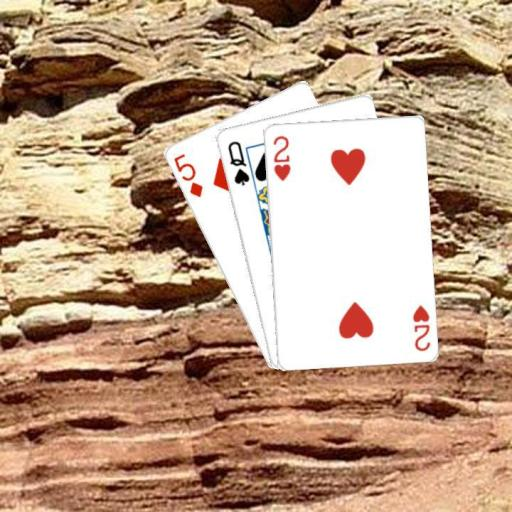2H: (270, 132, 292, 182), (409, 302, 431, 352)
5D: (170, 150, 204, 199)
QS: (224, 137, 250, 187)
